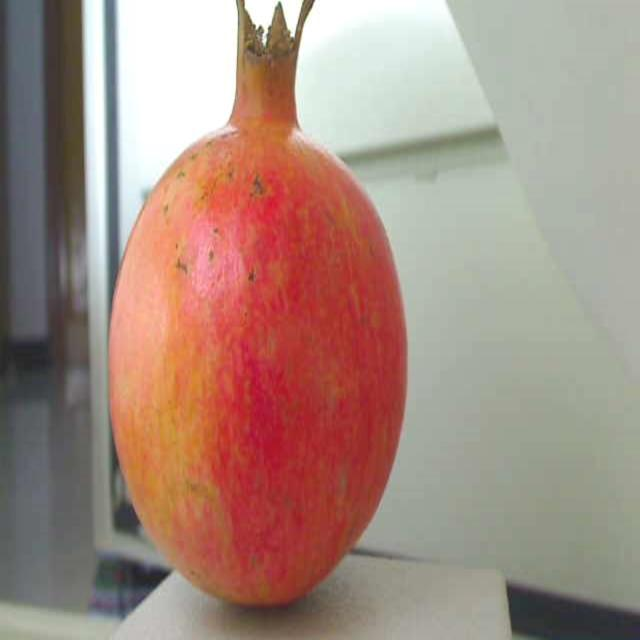pomegranate: (100, 0, 427, 629)
